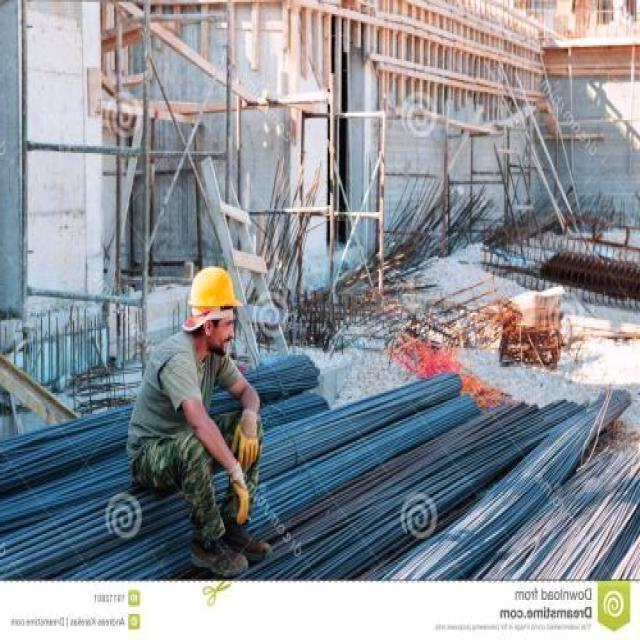hand_glove: (217, 473, 258, 540), (227, 408, 264, 473)
head_helmet: (188, 263, 245, 313)
person: (125, 264, 273, 574)
shoes: (186, 526, 249, 579), (222, 517, 274, 564)
